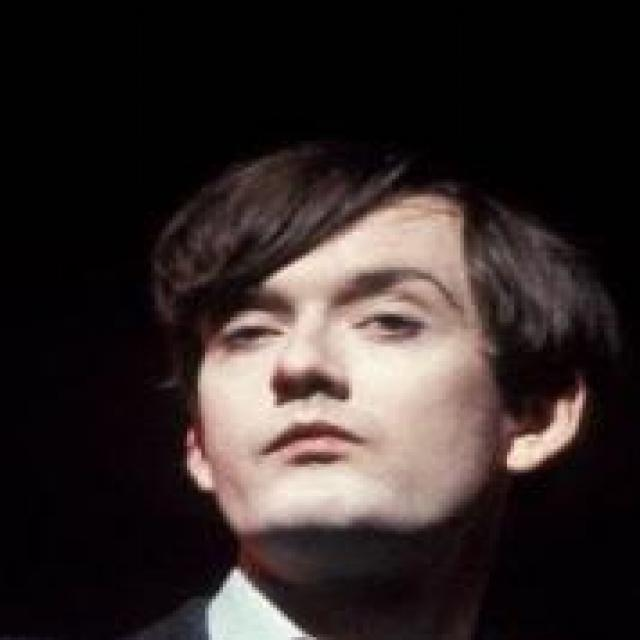nomask: (108, 150, 586, 596)
